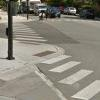Crosswalk: (25, 28, 99, 99)
